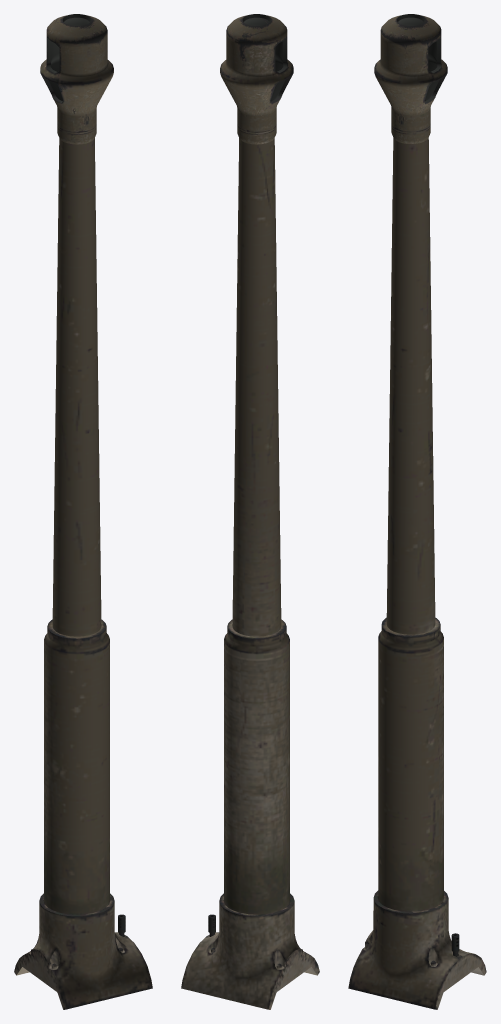
The model's file is Gun_05.glb.
The picture shows the model from 3 angles, left to right: view 1: azimuth 30°, elevation 25°; view 2: azimuth 150°, elevation 25°; view 3: azimuth 330°, elevation 25°; orthographic projection.
Visible parts, largest first — view 1: set_0_group_0; view 2: set_0_group_0; view 3: set_0_group_0.
Boxes of the visible parts, <box> form: set_0_group_0: <box>14,14,152,1009</box>; set_0_group_0: <box>181,14,319,1009</box>; set_0_group_0: <box>348,14,486,1009</box>.
Size of the model in its own units: 0.5407 by 5.69 by 0.5515.
Materials: 1 (1 with a texture image).
